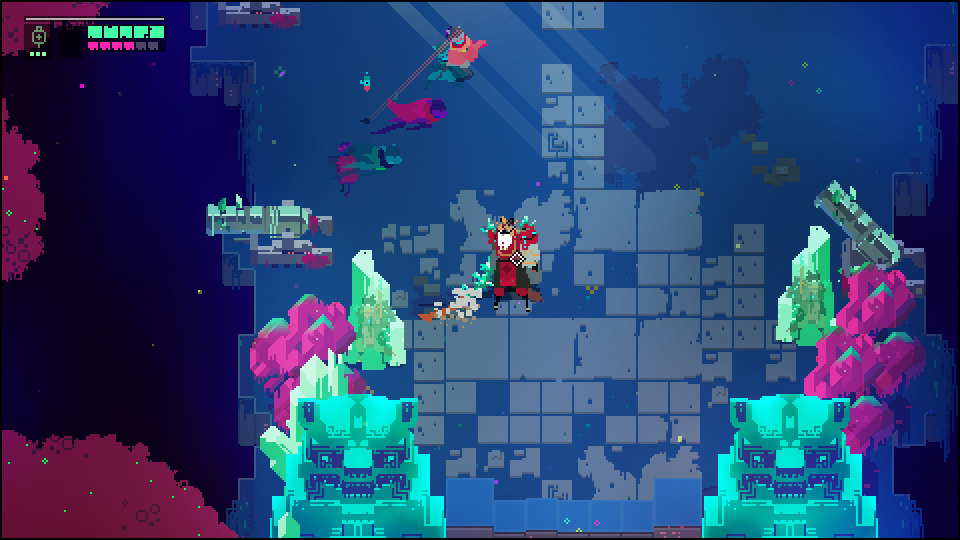hanged_man: (442, 209, 543, 324)
player: (443, 24, 493, 71)
